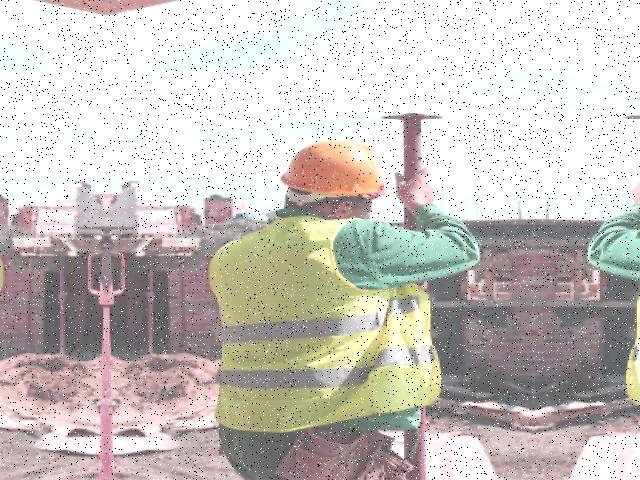Helmet: (274, 134, 396, 210)
